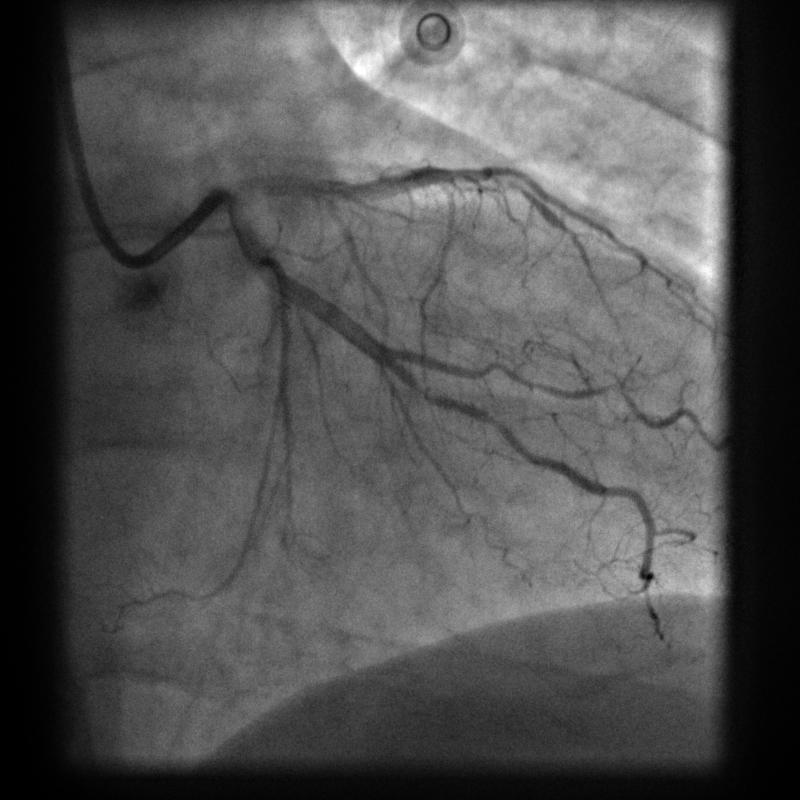Stenosis: (419, 395, 504, 433)
